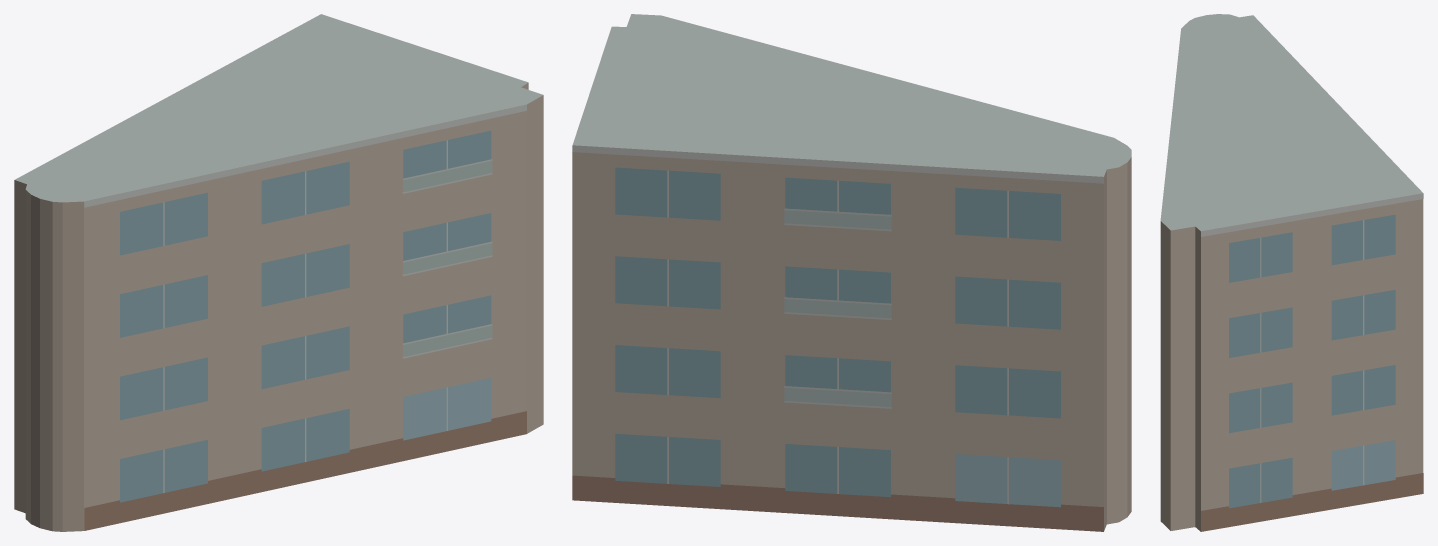
File: survey-upis-32987435.glb
The picture shows the model from 3 angles, left to right: view 1: azimuth 30°, elevation 25°; view 2: azimuth 150°, elevation 25°; view 3: azimuth 270°, elevation 25°; orthographic projection. The views are drawn at different scales.
Parts seen in each view (by area): view 1: survey-upis-32987435.tmp; view 2: survey-upis-32987435.tmp; view 3: survey-upis-32987435.tmp.
Part boxes in pixels (<box>): survey-upis-32987435.tmp: <box>14,14,543,531</box>; survey-upis-32987435.tmp: <box>572,14,1131,531</box>; survey-upis-32987435.tmp: <box>1160,14,1423,531</box>.
Bounding box in the file's own units: 19.85 × 12.8 × 10.16.
